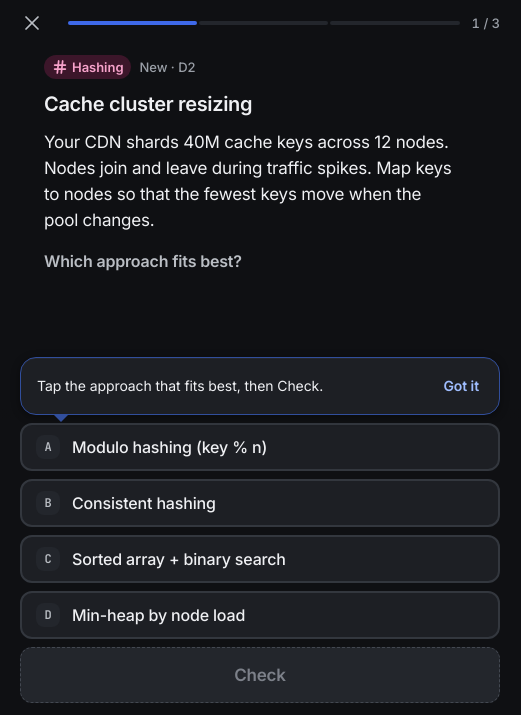
Test: Session: verdict › correct: strip, solid success tile, dimmed rest, live region, Continue keeps focus
What coordinates should you click on to do the following:
click the radio button labelled "Consistent hashing"
I would click on:
 (144, 503)
Its box is top-left (20, 479), bottom-right (500, 527).
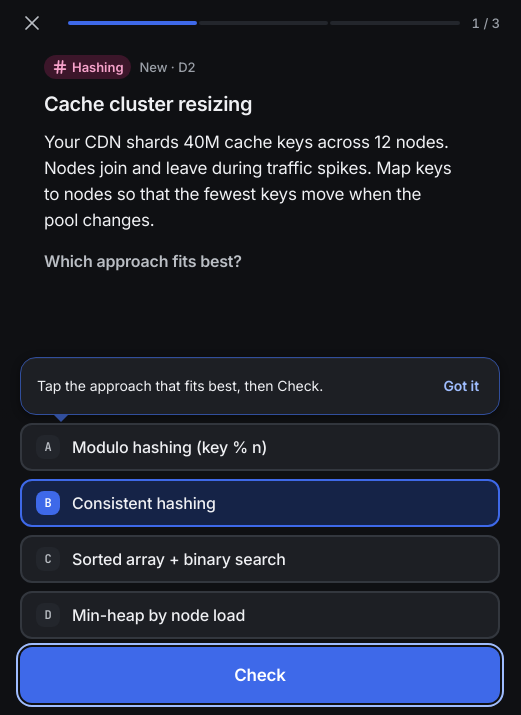
What coordinates should you click on to do the following:
click the button "Check"
I would click on:
 (260, 675)
Its box is top-left (20, 647), bottom-right (500, 703).
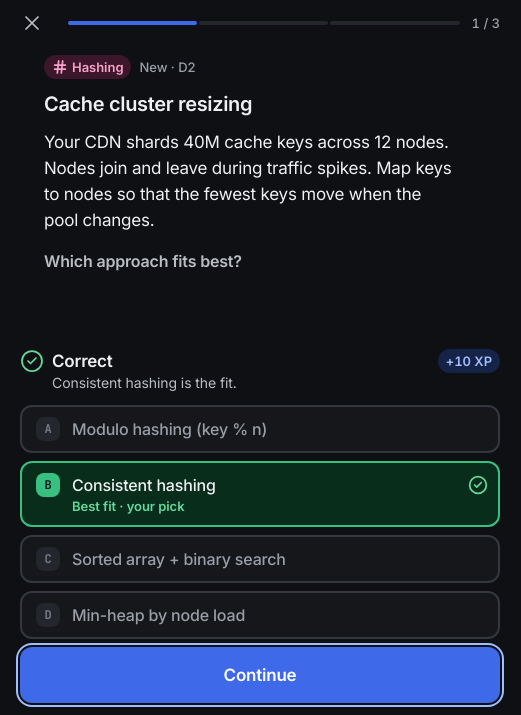
Now the message shows "Correct", box top-left (52, 351), bottom-right (113, 371)
Now the message shows "+10 XP", box top-left (20, 345), bottom-right (500, 397)
Now the message shows "Consistent hashing is the fit.", box top-left (52, 374), bottom-right (237, 391)
